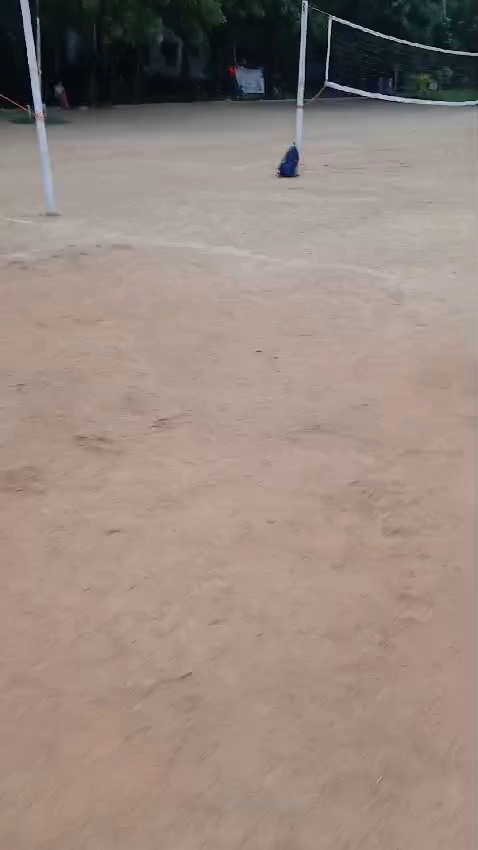bag: (258, 138, 310, 184)
